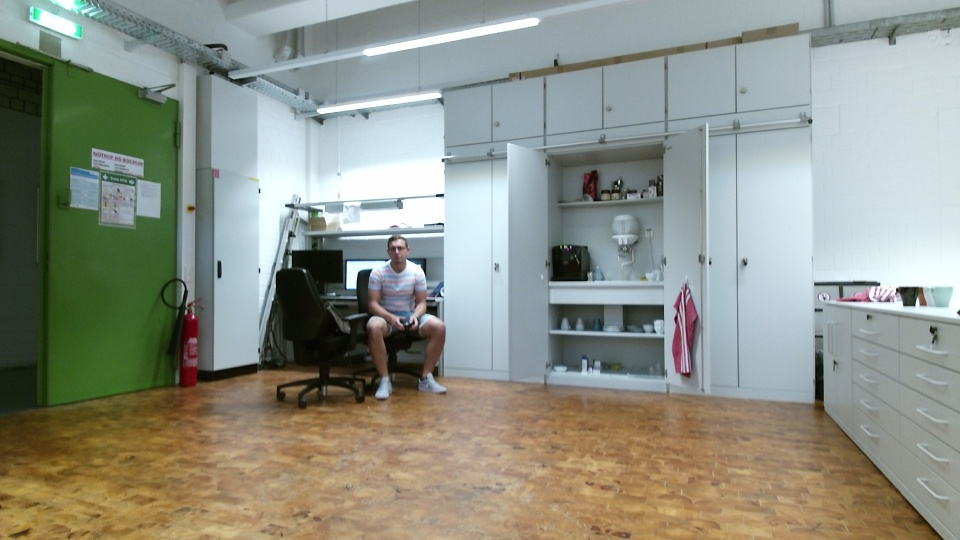person: (362, 229, 451, 409)
